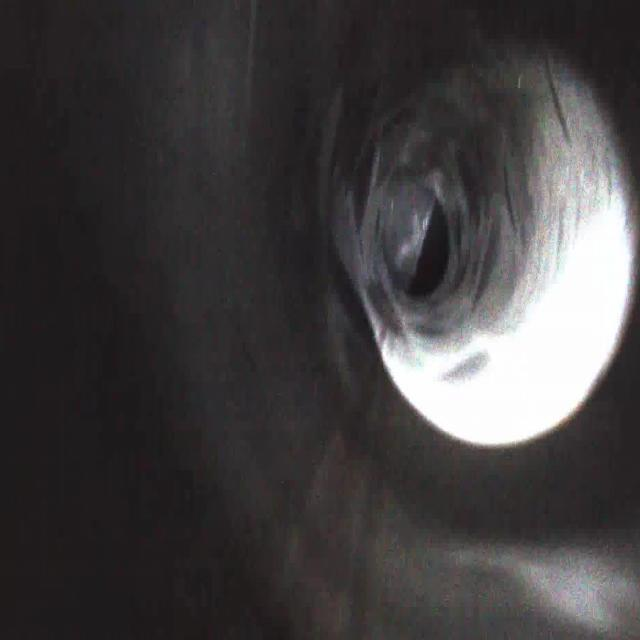crack: (532, 51, 580, 162), (458, 206, 500, 324)
